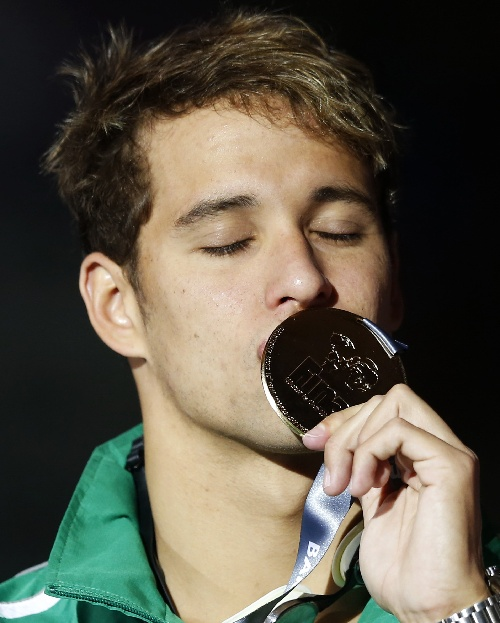face: (147, 100, 403, 468)
